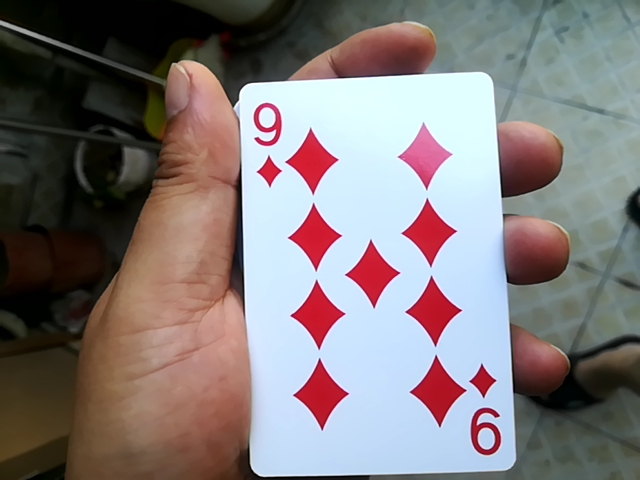fk 9: (209, 62, 494, 473)
